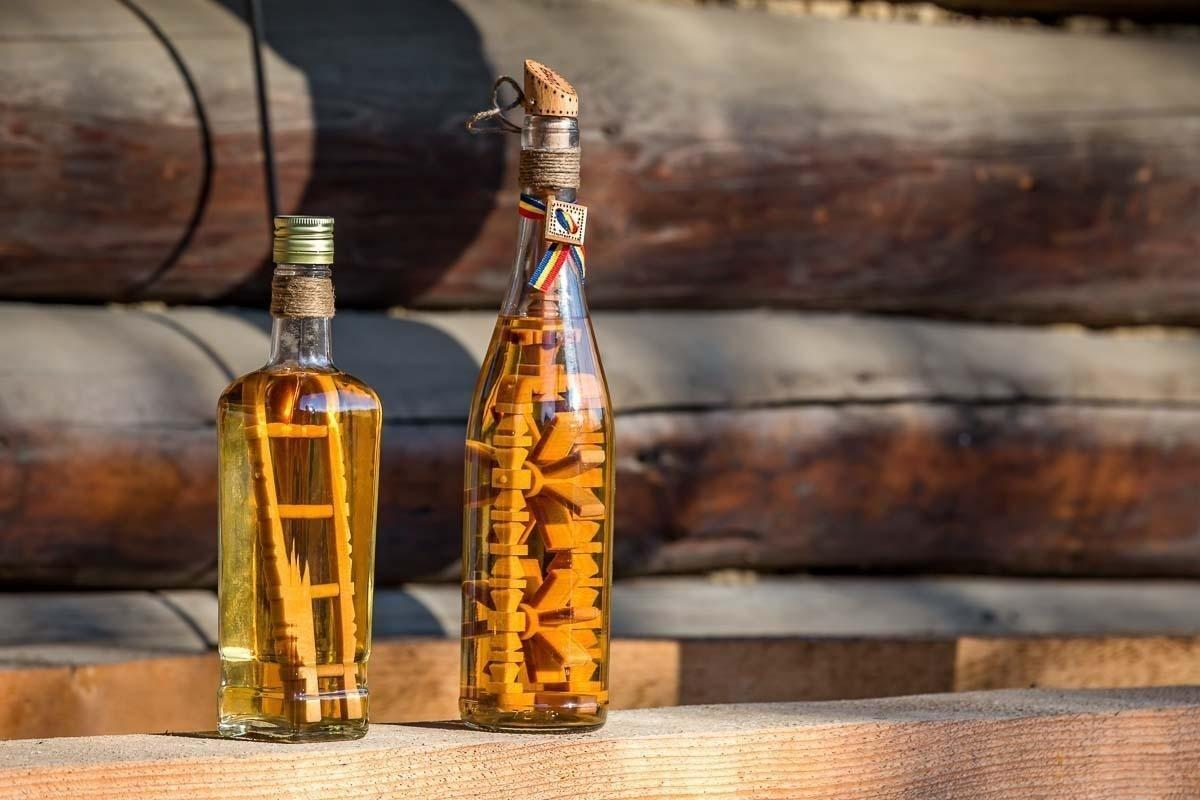bottle-glass: (452, 114, 624, 742), (208, 210, 388, 749)
